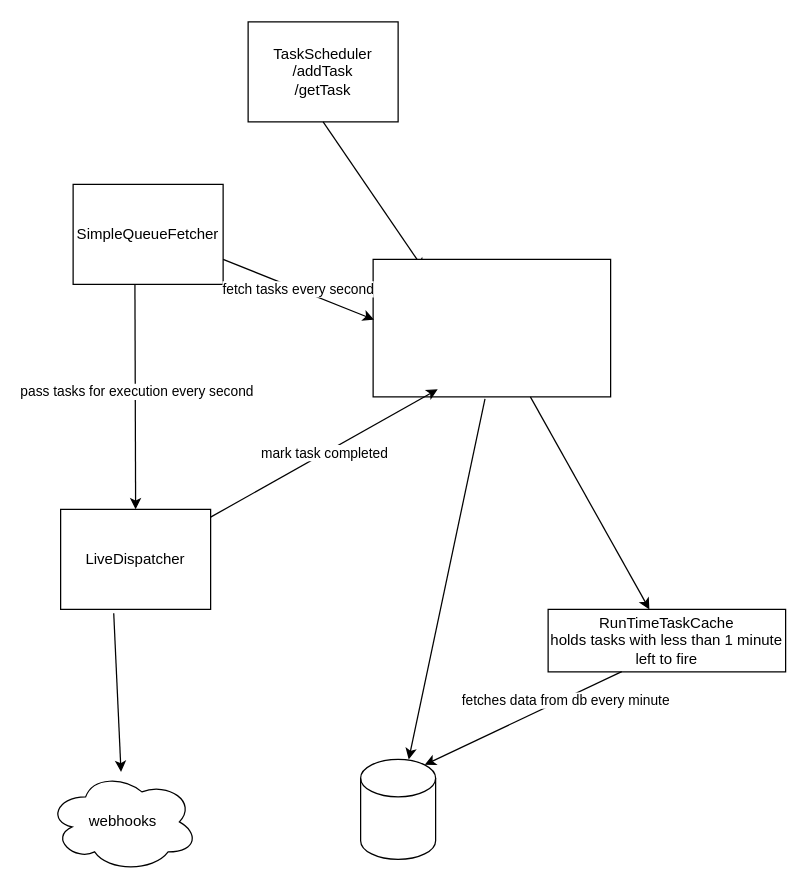
This 809x894 diagram has some shape labels left out. The centre of each missing label's shape, as x and y in pixels:
"MySQL DB" belongs at (x=397, y=808).
"MySQLWCacheTaskQueue" belongs at (x=491, y=327).
